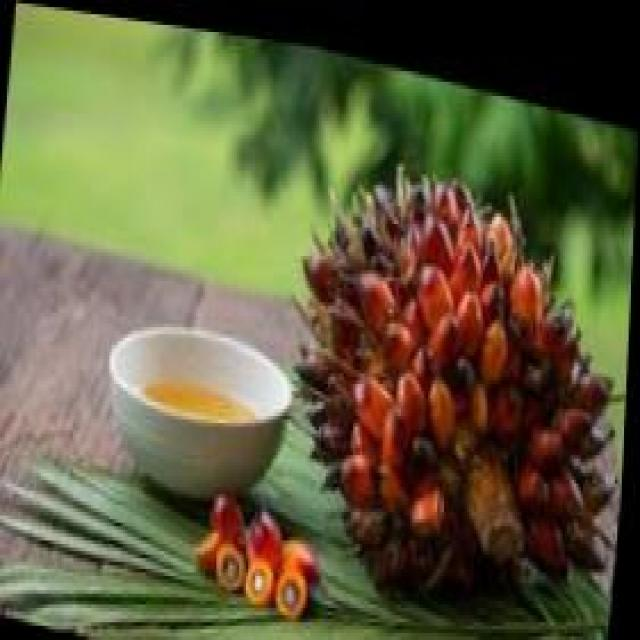Ripefruit: (281, 114, 637, 601)
